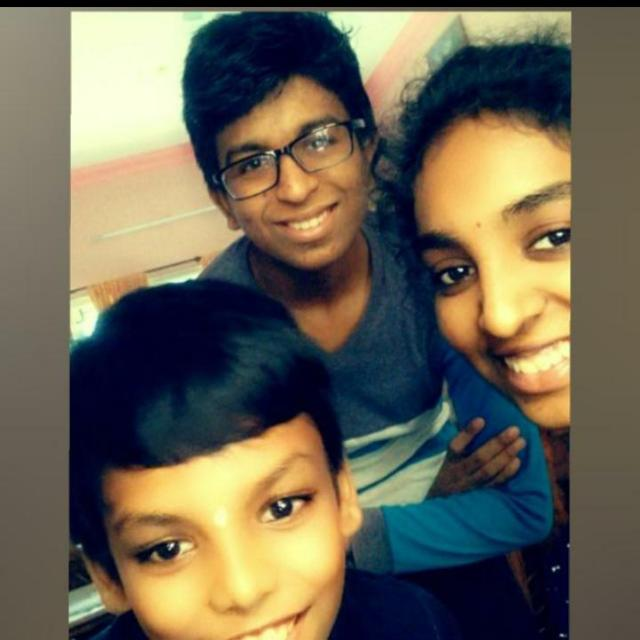person: (70, 248, 360, 640), (376, 44, 614, 440), (163, 17, 405, 310)
